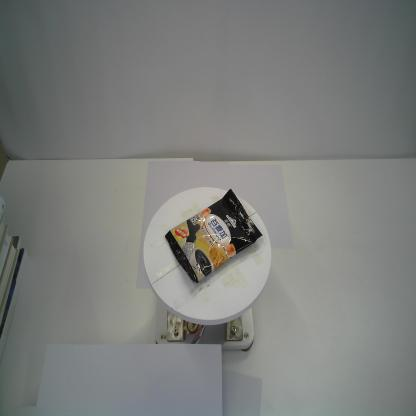Instant Drink: (165, 188, 263, 286)
